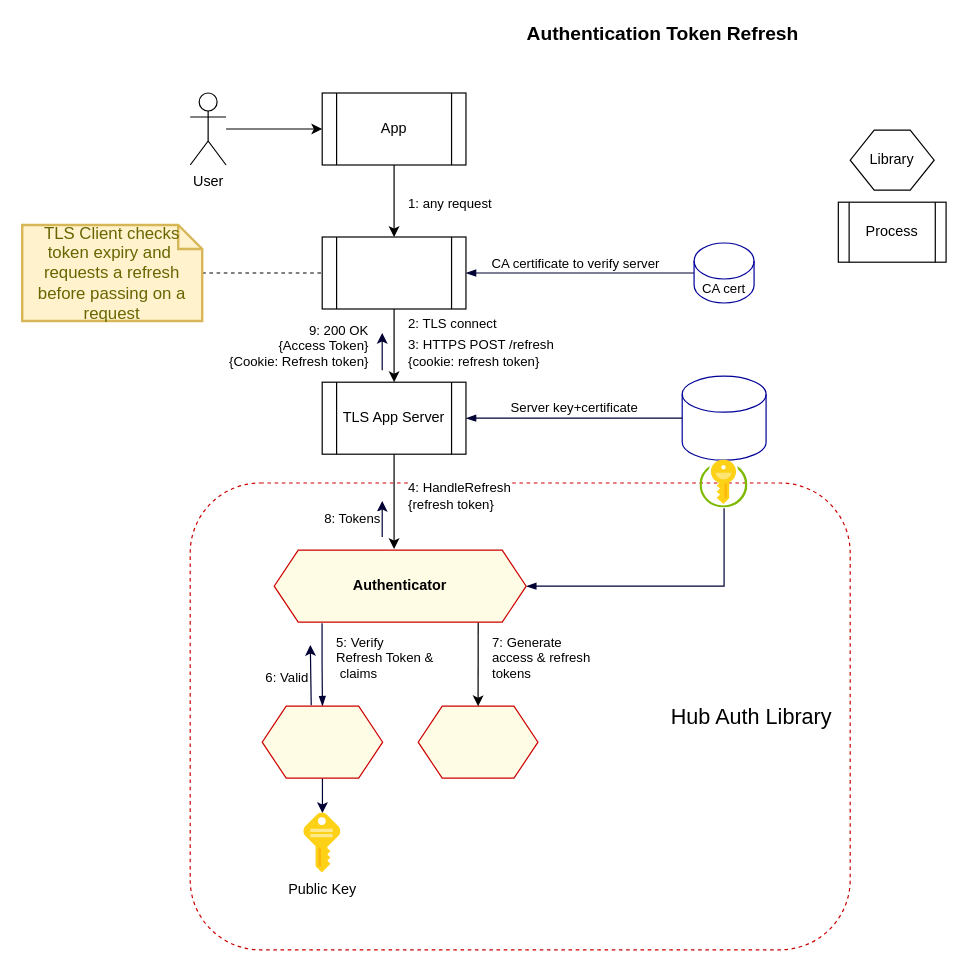
Image size: 967x971. Some labels were removed from this diagram. The shapes that lost their labels are listed below. From the top down, each one's centre as x and y in pixels, then its label:
At pixel 393 272: "Hub TLS Client".
At pixel 723 417: "Server key+cert".
At pixel 723 484: "Private Key".
At pixel 322 741: "JWT Token Verification".
At pixel 477 741: "JWT Token generation".
